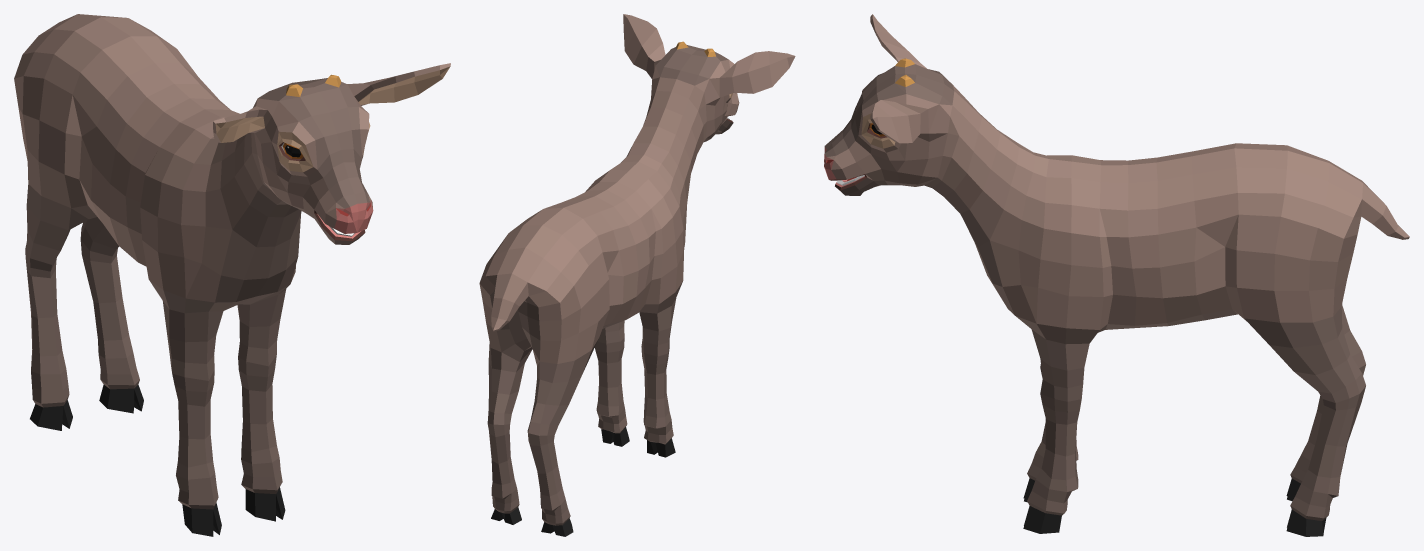
Rendered from LowPoly_Goatling_3.obj.
The picture shows the model from 3 angles, left to right: view 1: azimuth 30°, elevation 25°; view 2: azimuth 150°, elevation 25°; view 3: azimuth 270°, elevation 25°; orthographic projection. The views are drawn at different scales.
Parts seen in each view (by area): view 1: Goatling_3_Cube.004; view 2: Goatling_3_Cube.004; view 3: Goatling_3_Cube.004.
Boxes of the visible parts, x1,y1,x2,y2 form: Goatling_3_Cube.004: (14, 14, 450, 536); Goatling_3_Cube.004: (479, 14, 795, 536); Goatling_3_Cube.004: (824, 14, 1409, 536).
Bounding box in the file's own units: 0.2081 × 0.4165 × 0.4936.
